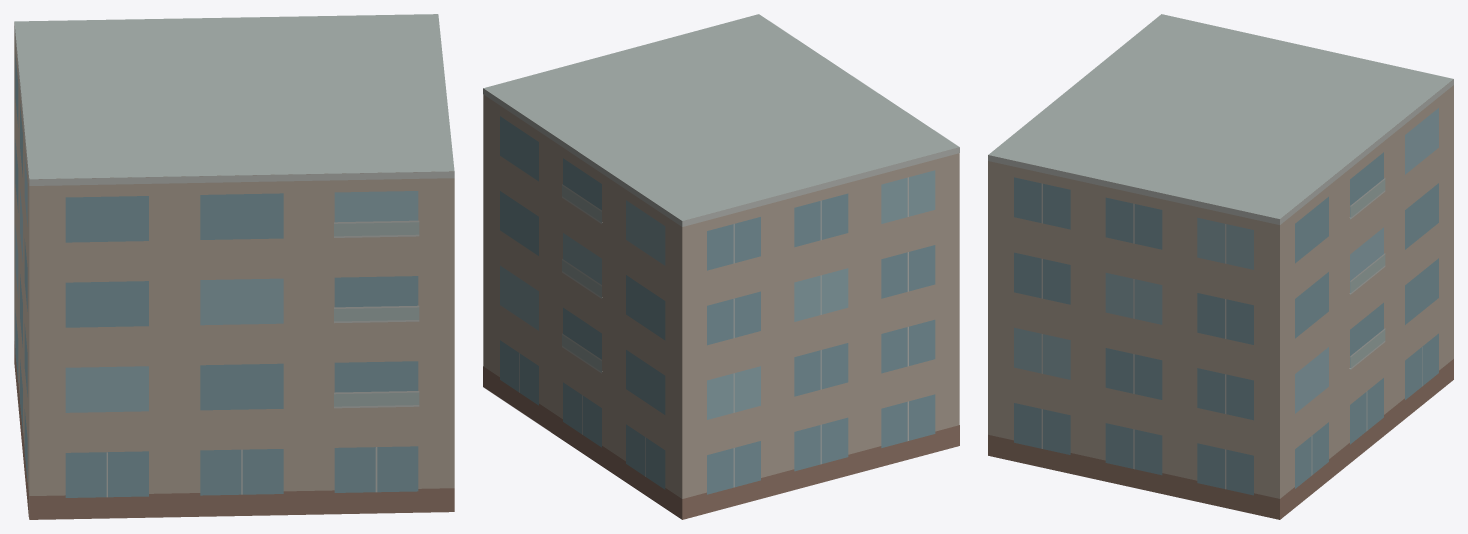
Rendered from survey-upis-32888853.glb.
The picture shows the model from 3 angles, left to right: view 1: azimuth 30°, elevation 25°; view 2: azimuth 150°, elevation 25°; view 3: azimuth 270°, elevation 25°; orthographic projection. The views are drawn at different scales.
Visible parts, largest first — view 1: survey-upis-32888853.tmp; view 2: survey-upis-32888853.tmp; view 3: survey-upis-32888853.tmp.
Boxes of the visible parts, <box> form: survey-upis-32888853.tmp: <box>14,14,454,519</box>; survey-upis-32888853.tmp: <box>483,14,959,519</box>; survey-upis-32888853.tmp: <box>988,14,1453,519</box>.
Size of the model in its own units: 17.86 by 12.2 by 17.13.
